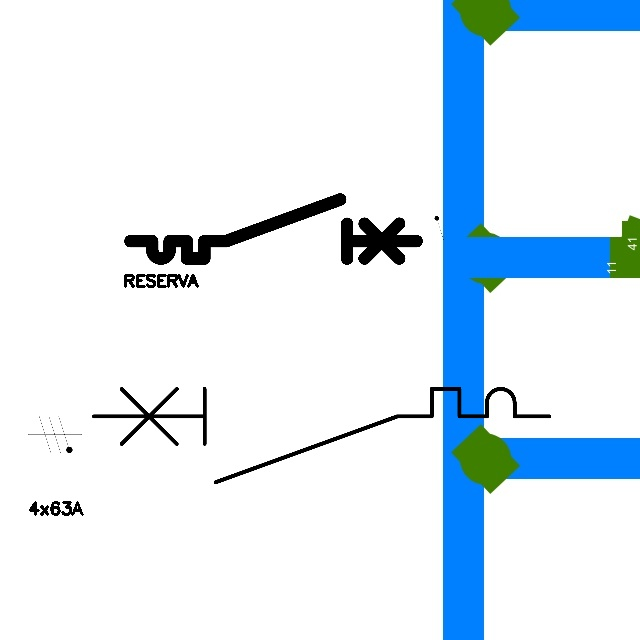interruptor_termomagnetico: (82, 377, 561, 494), (123, 192, 424, 266)
